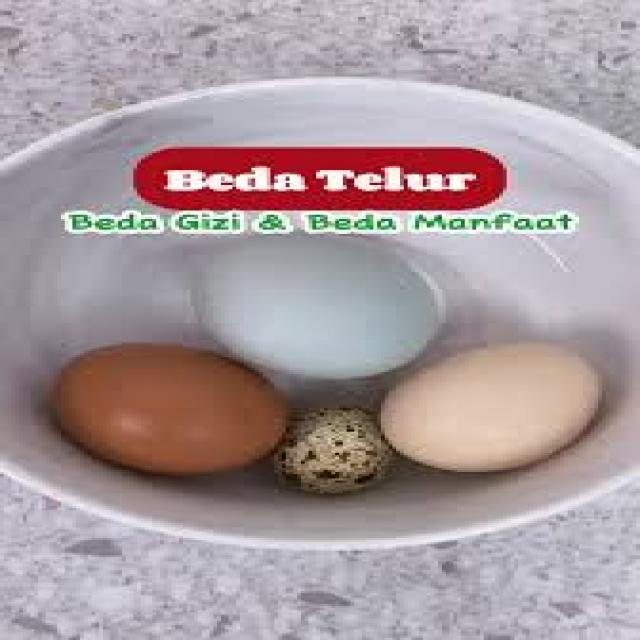telur: (196, 238, 447, 383), (374, 339, 604, 475), (53, 344, 288, 476)
